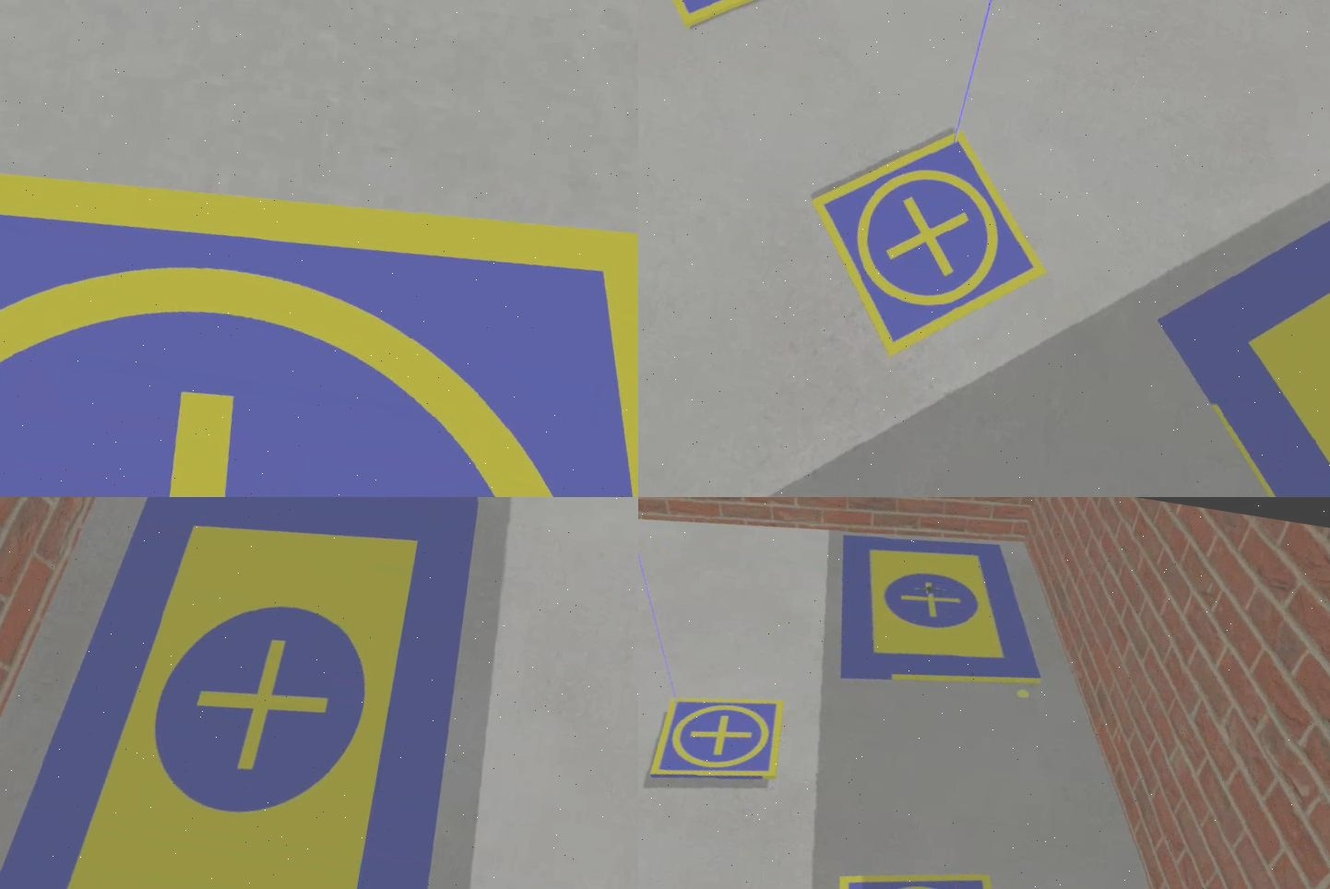large_base: (1, 498, 493, 889), (1099, 52, 1330, 498), (818, 516, 1063, 713)
small_base: (1, 81, 639, 498), (786, 107, 1071, 376), (649, 683, 789, 798), (639, 1, 845, 53)
